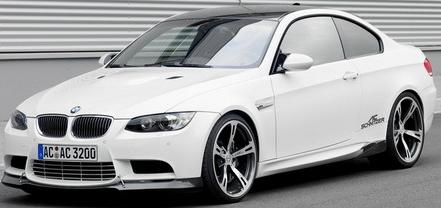front_view: (0, 96, 215, 193)
headlight: (122, 110, 201, 136)
side_glass: (272, 15, 386, 80)
